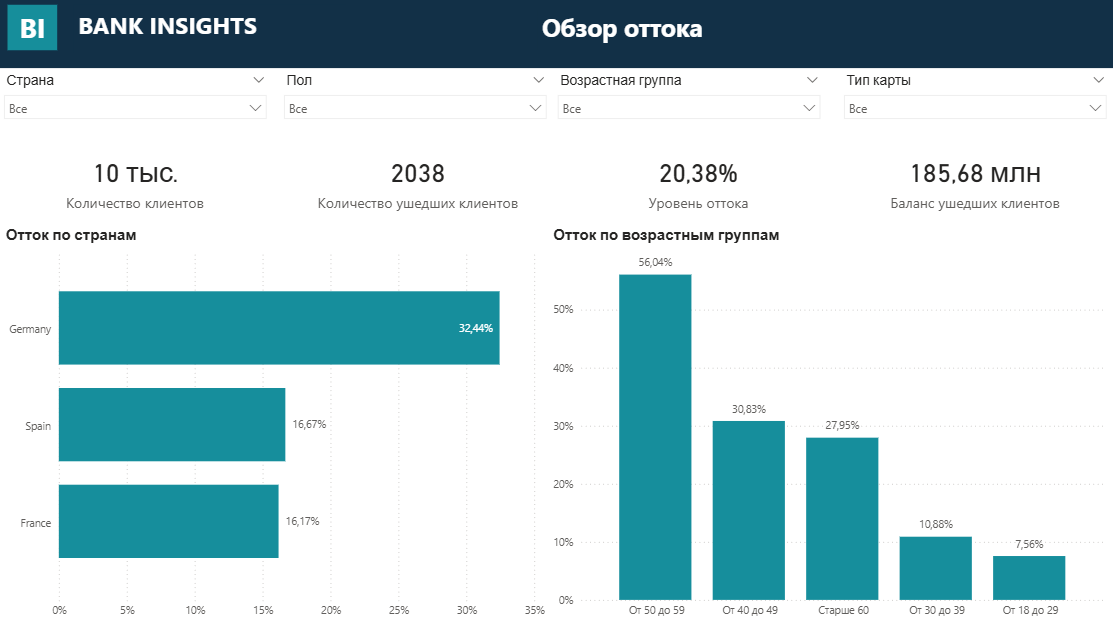

The page's visual inventory and layout, read from the dashboard file:
{"tool":"powerbi","page":{"name":"Обзор оттока","canvas":[1280,720],"ordinal":0},"visuals":[{"type":"slicer","fields":{"Values":["Customers.Geography"]},"box":[0,82.5,320,62.5],"z":0},{"type":"slicer","fields":{"Values":["Customers.Gender"]},"box":[320,82.5,320,62.5],"z":1000},{"type":"slicer","fields":{"Values":["Customers.AgeGroup"]},"box":[632.5,82.5,320,61.2],"z":2000},{"type":"slicer","fields":{"Values":["Customers.Card Type"]},"box":[960,82.5,320,61.2],"z":3000},{"type":"card","fields":{"Values":["Меры.Количество клиентов"]},"box":[6.2,161.2,308.8,101.2],"z":4000},{"type":"card","fields":{"Values":["Меры.Количество ушедших клиентов"]},"box":[327.5,161.2,312.5,101.2],"z":5000},{"type":"card","fields":{"Values":["Меры.Базовый уровень оттока"]},"box":[652.5,161.2,302.5,101.2],"z":6000},{"type":"card","fields":{"Values":["Меры.Сумма баланса ушедших клиентов"]},"box":[967.5,161.2,306.2,101.2],"z":7000},{"type":"barChart","title":"Отток по странам","fields":{"Category":["Customers.Geography"],"Y":["Меры.Уровень оттока"]},"box":[7.5,262.5,632.5,457.5],"z":8000},{"type":"clusteredColumnChart","title":"Отток по возрастным группам","fields":{"Y":["Меры.Уровень оттока"],"Category":["Customers.AgeGroup"]},"box":[632.5,262.5,641.2,457.5],"z":9000},{"type":"textbox","box":[0,0,1279.3,82.4],"z":10000},{"type":"textbox","box":[620,12,635,50],"z":11000},{"type":"textbox","box":[90,10,310,54],"z":12000},{"type":"textbox","box":[14.6,10,56.9,52.3],"z":13000}]}

Visuals, with their boxes in screenshot pixels (x1, y1, x2, y2), scaled from the page's 1280x720 canvas onto the 1113x622 screenshot:
slicer - Customers.Geography: bbox(0, 71, 278, 125)
slicer - Customers.Gender: bbox(278, 71, 556, 125)
slicer - Customers.AgeGroup: bbox(550, 71, 828, 124)
slicer - Customers.Card Type: bbox(835, 71, 1112, 124)
card - Меры.Количество клиентов: bbox(5, 139, 274, 227)
card - Меры.Количество ушедших клиентов: bbox(285, 139, 556, 227)
card - Меры.Базовый уровень оттока: bbox(567, 139, 830, 227)
card - Меры.Сумма баланса ушедших клиентов: bbox(841, 139, 1108, 227)
"Отток по странам" barChart: bbox(7, 227, 556, 621)
"Отток по возрастным группам" clusteredColumnChart: bbox(550, 227, 1108, 621)
textbox: bbox(0, 0, 1112, 71)
textbox: bbox(539, 10, 1091, 54)
textbox: bbox(78, 9, 348, 55)
textbox: bbox(13, 9, 62, 54)
